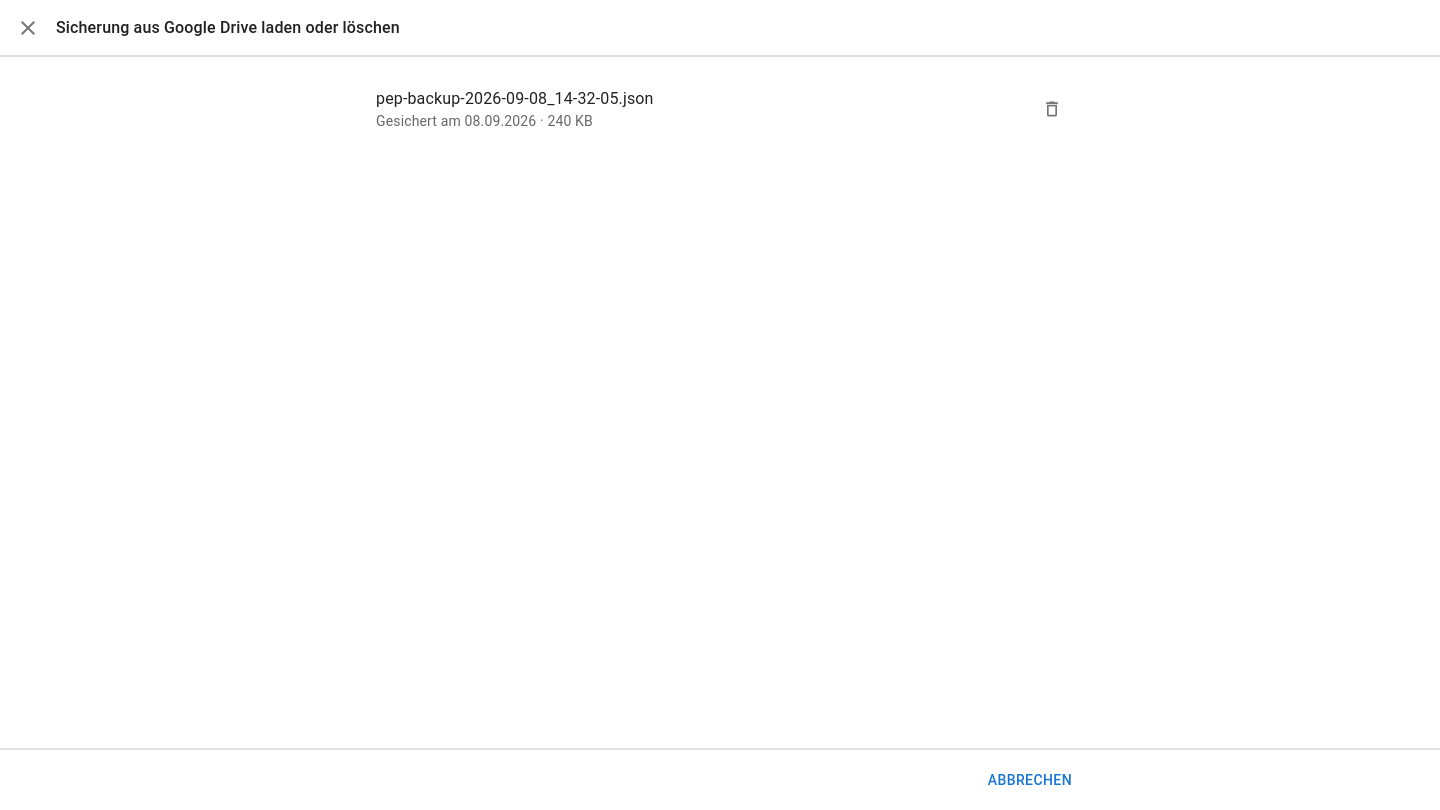
it: DriveBackupDialog › asks before deleting, and says the file goes to the trash rather than promising an erase
This screenshot has width=1440, height=810.
Click the button named "löschen" at (1052, 109), box [1037, 94, 1067, 124]
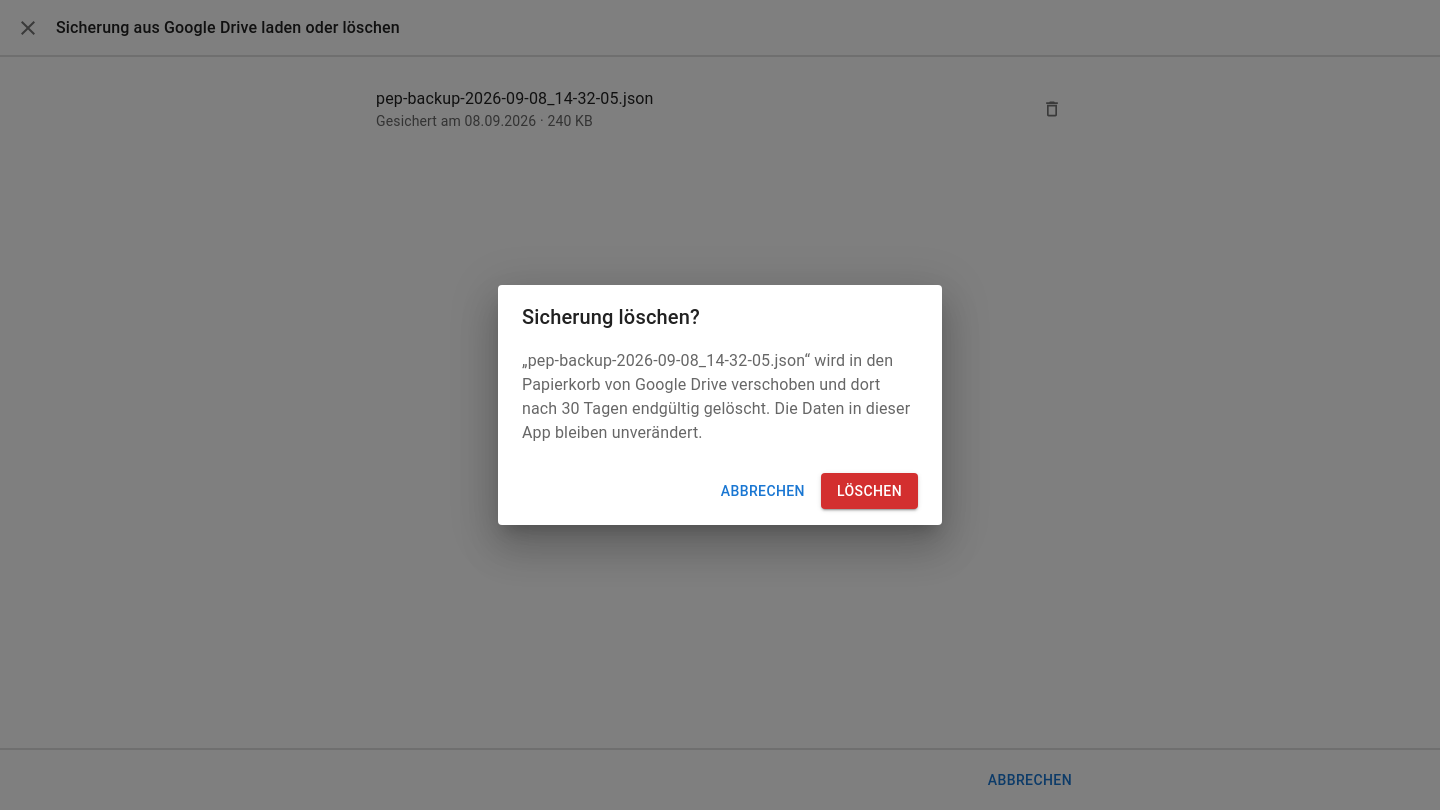
Expected: the heading "Sicherung löschen?" is shown, [522, 305, 700, 329]
Expected: the text "30 Tagen" is shown, [522, 351, 910, 442]
